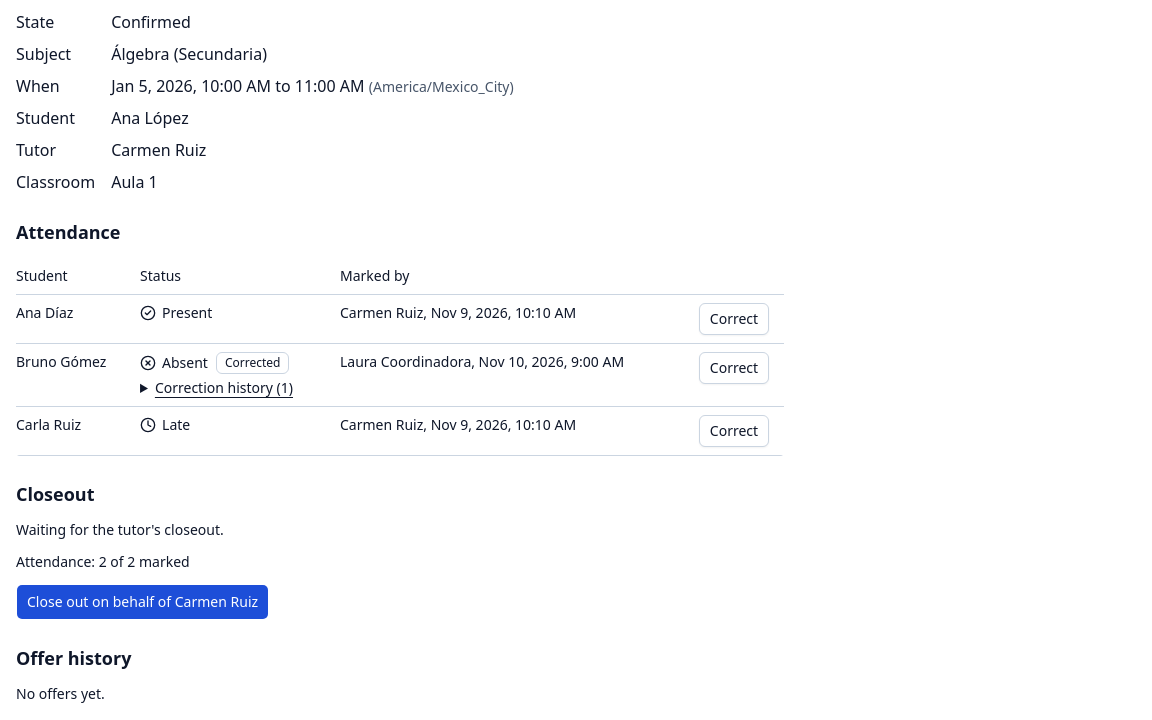
Test: close out on behalf (#301b C) › makes the summary optional when everyone was absent
(page scrolled)
Click the button "Close out on behalf of Carmen Ruiz".
click(143, 602)  # box [16,584,269,620]
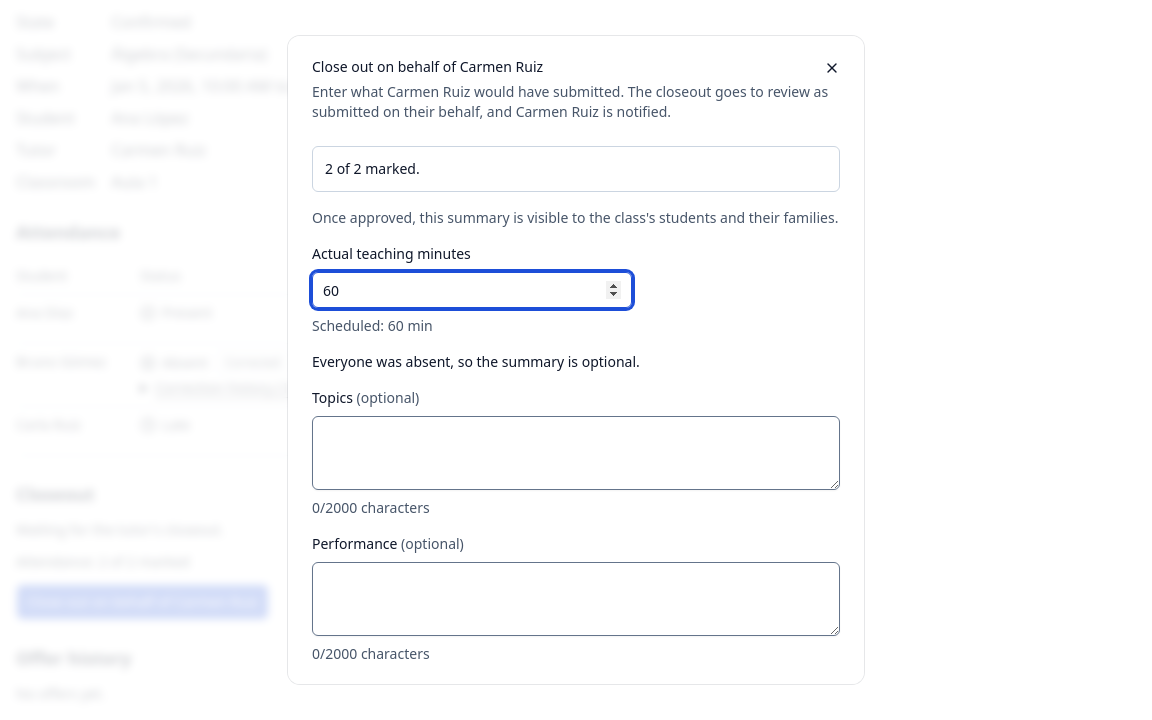
Result: the dialog shows "Everyone was absent, so the summary is optional." at [312,352,640,371]
